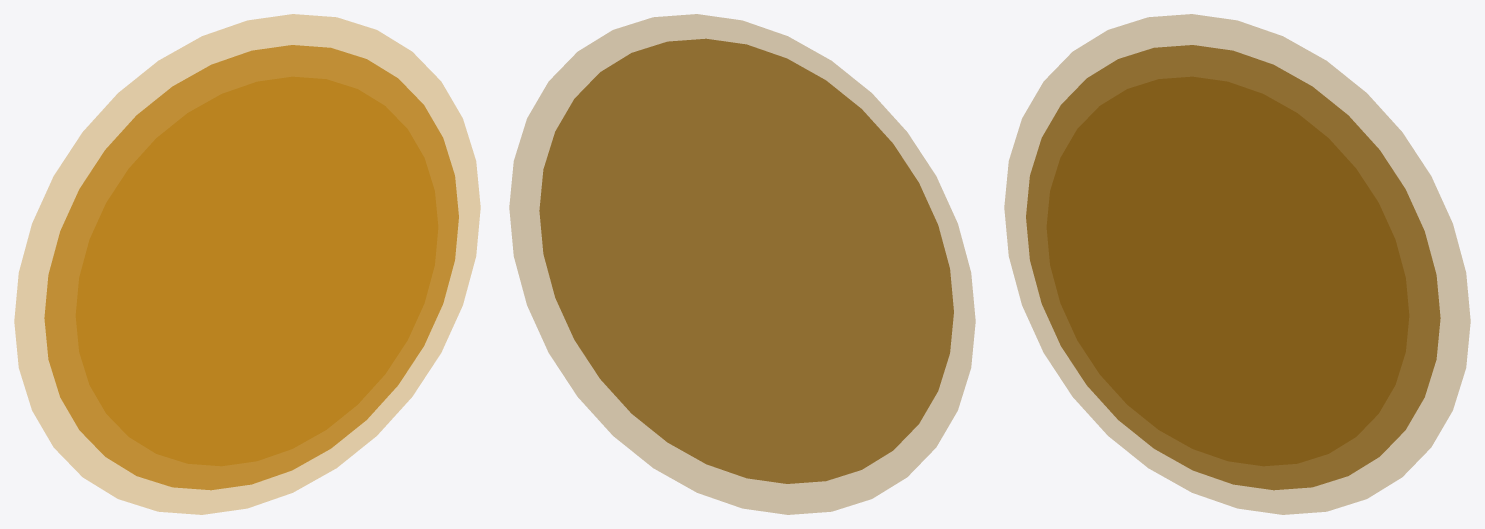
File: gunes.gltf
3 renders of one model, left to right at view 1: azimuth 30°, elevation 25°; view 2: azimuth 150°, elevation 25°; view 3: azimuth 330°, elevation 25°, orthographic.
Parts seen in each view (by area): view 1: Günes.010, Günes.009, Günes.011; view 2: Günes.011, Günes.010; view 3: Günes.010, Günes.009, Günes.011.
Part boxes in pixels (<box>): Günes.010: <box>44,45,458,490</box>; Günes.009: <box>75,76,438,466</box>; Günes.011: <box>14,14,480,514</box>; Günes.011: <box>509,14,975,514</box>; Günes.010: <box>539,38,953,483</box>; Günes.010: <box>1026,45,1440,490</box>; Günes.009: <box>1046,76,1409,466</box>; Günes.011: <box>1004,14,1470,514</box>.
Bounding box in the file's own units: 0.2543 × 0.2543 × 0.009.
